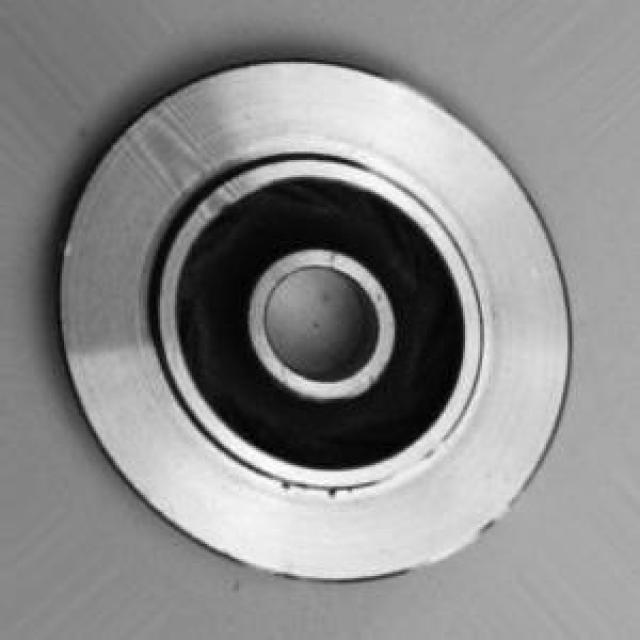Defect: (322, 479, 343, 503)
